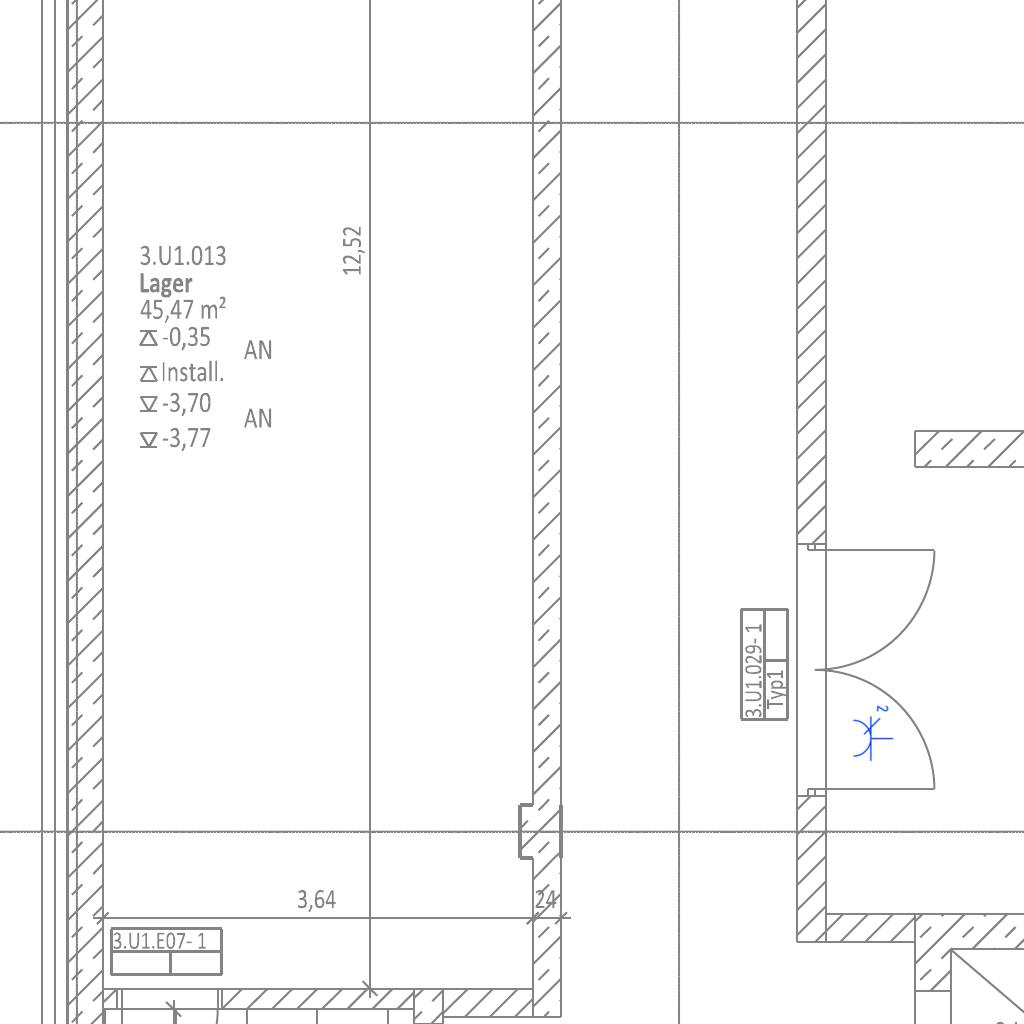Schukosteckdose_mehrfach: (850, 702, 894, 762)
